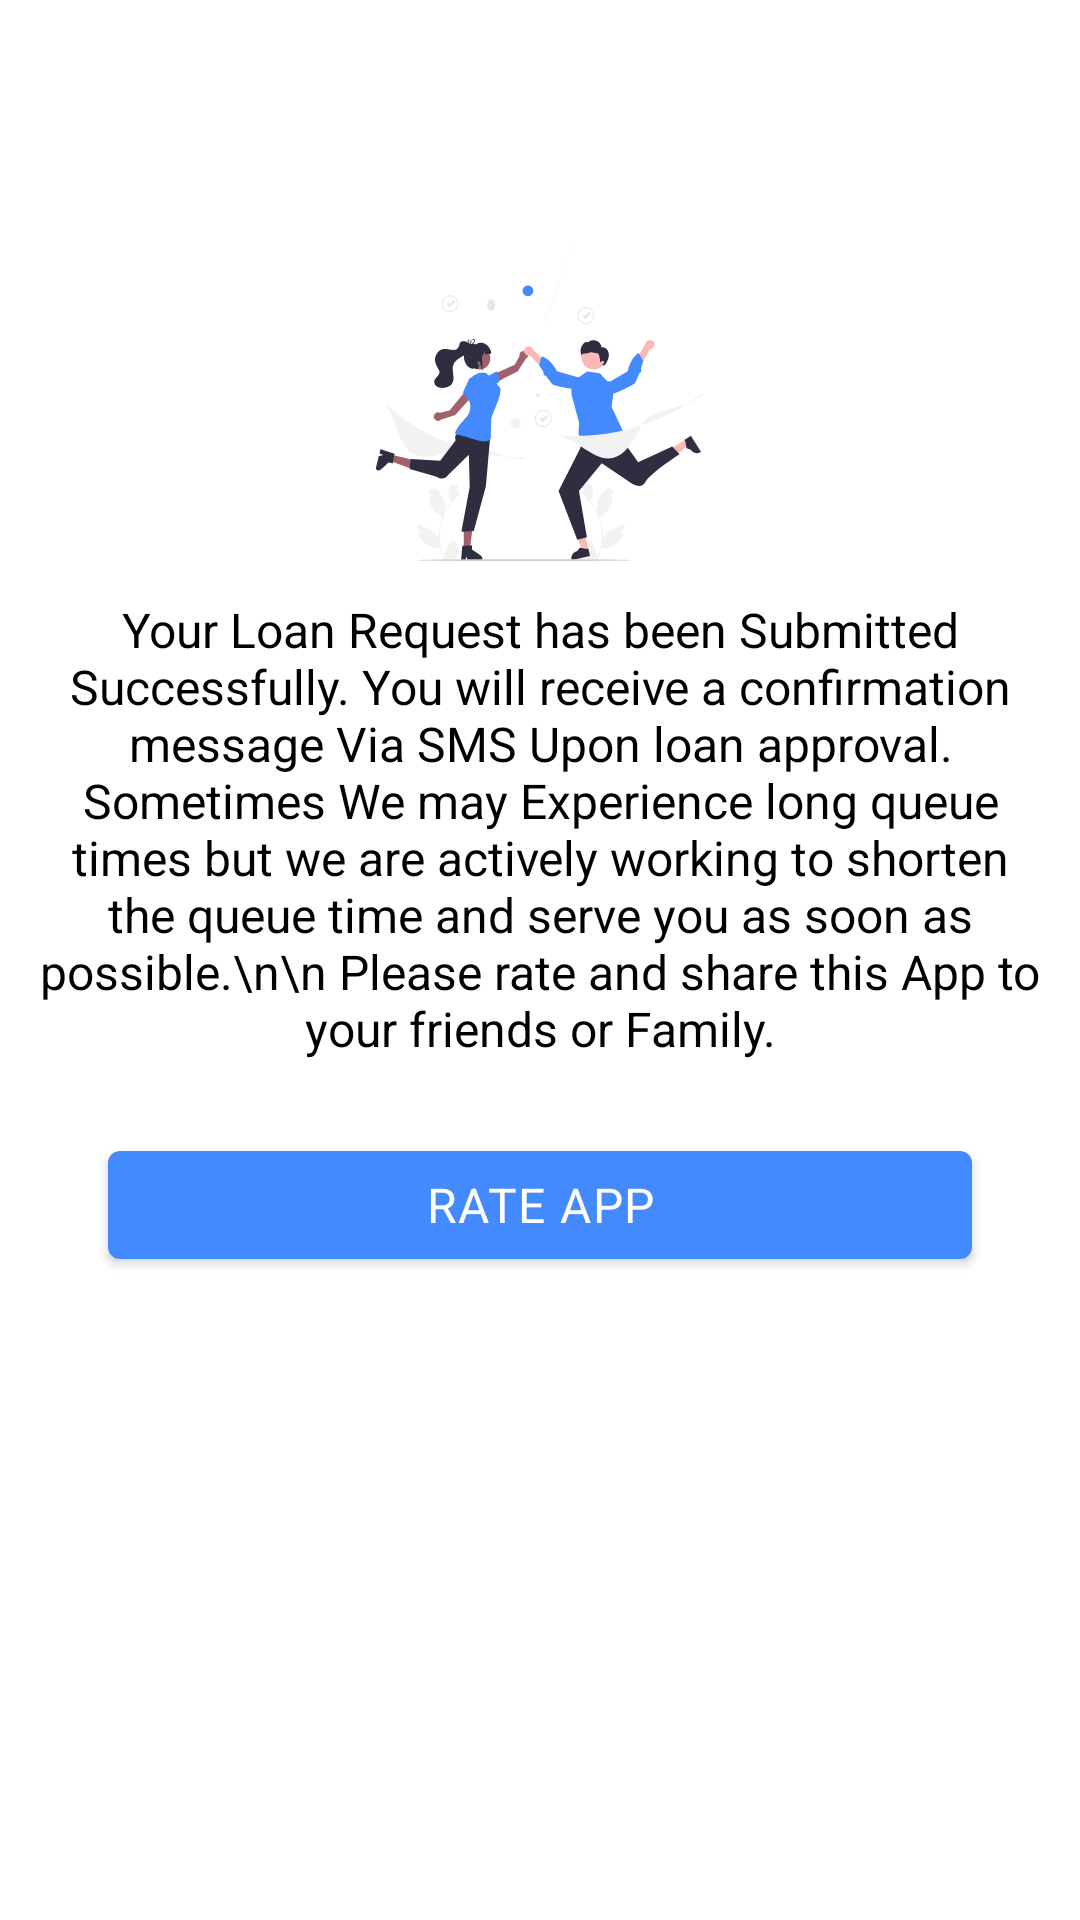

Point at icon controls on the screen. Image size 1080px×1920px, points as [x,y].
undraw winners re wr: [538,423]
